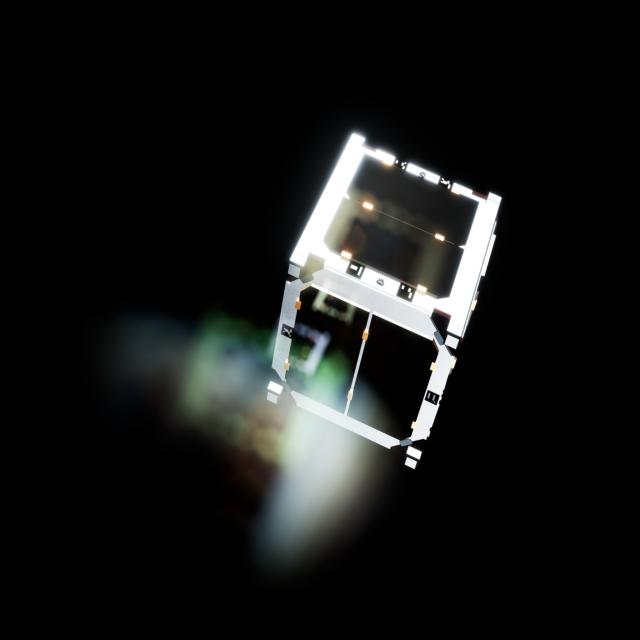medium_debris: (270, 122, 504, 472)
